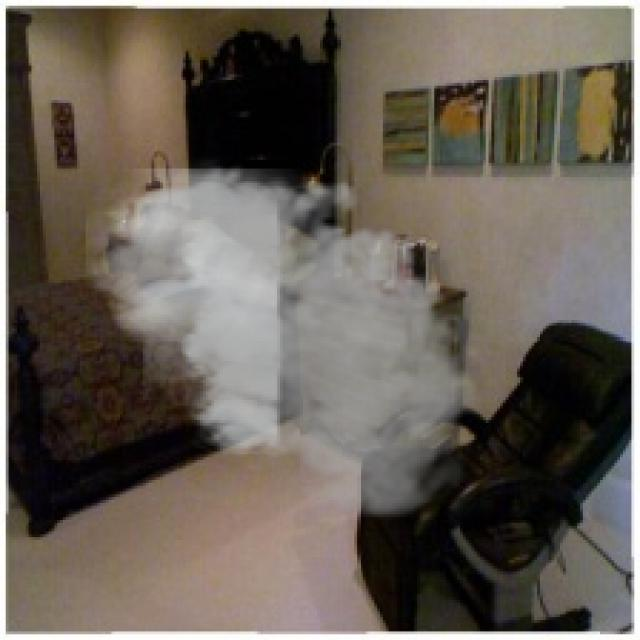smoke: (86, 154, 494, 526)
